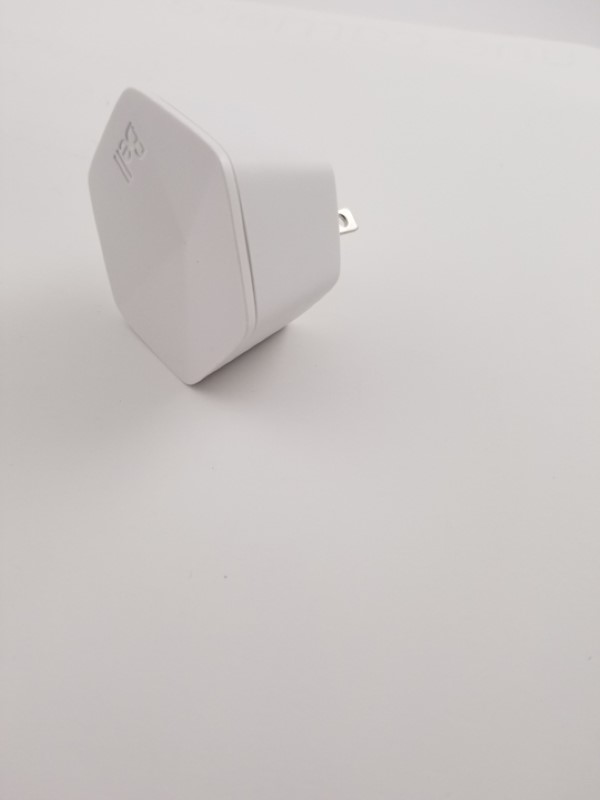pod: (86, 79, 363, 390)
